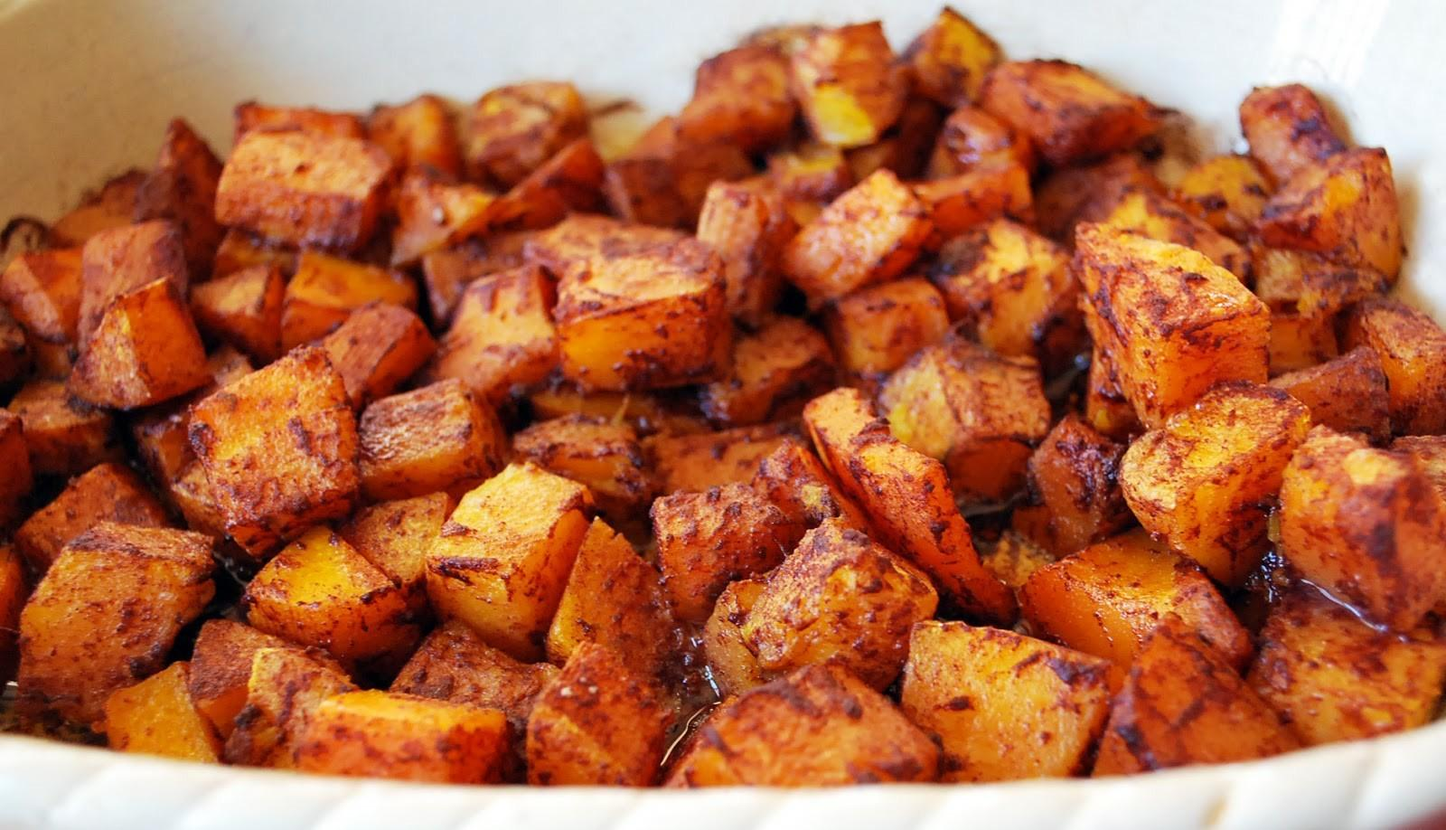AlooMasala: (5, 3, 1446, 785)
